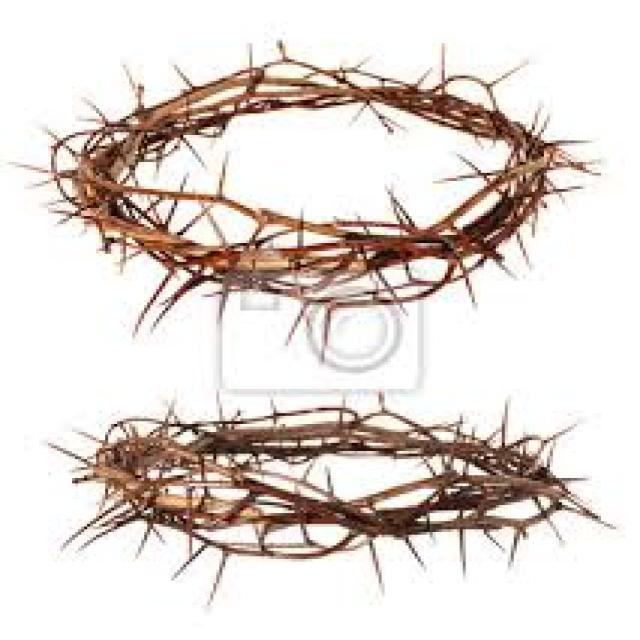crown: (35, 54, 612, 330), (45, 378, 640, 640)
